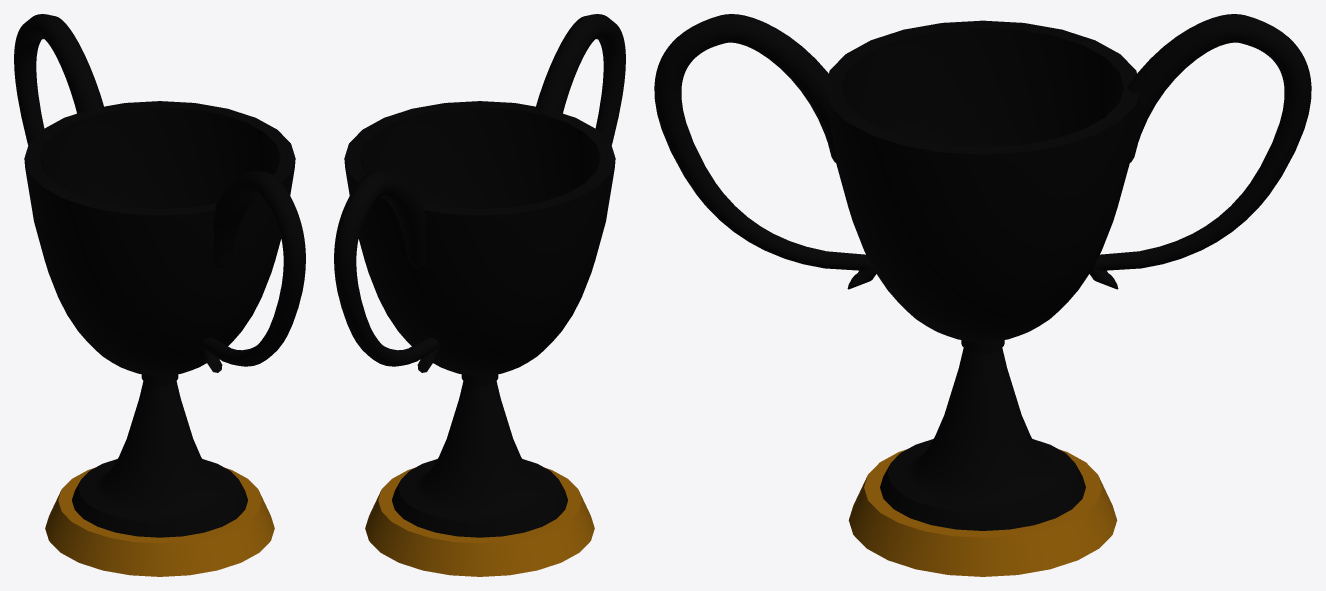
The model's file is asset.glb.
3 views of the same model, side by side, from view 1: azimuth 30°, elevation 25°; view 2: azimuth 150°, elevation 25°; view 3: azimuth 270°, elevation 25° (orthographic). The views are drawn at different scales.
Parts seen in each view (by area): view 1: Base, Handle, Handle_2; view 2: Base, Handle_2, Handle; view 3: Base, Handle, Handle_2.
Boxes of the visible parts, x1,y1,x2,y2 form: Base: [24, 101, 295, 576]; Handle: [200, 170, 305, 372]; Handle_2: [14, 14, 110, 182]; Base: [344, 101, 615, 576]; Handle_2: [334, 170, 439, 372]; Handle: [529, 14, 625, 182]; Base: [826, 20, 1139, 576]; Handle: [654, 14, 876, 289]; Handle_2: [1089, 14, 1311, 289].
Size of the model in its own units: 2 by 3.52 by 4.14.
